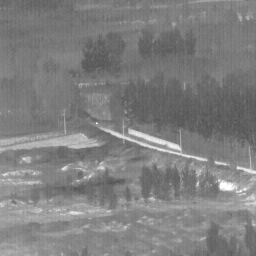aircraft: (96, 122, 98, 124)
